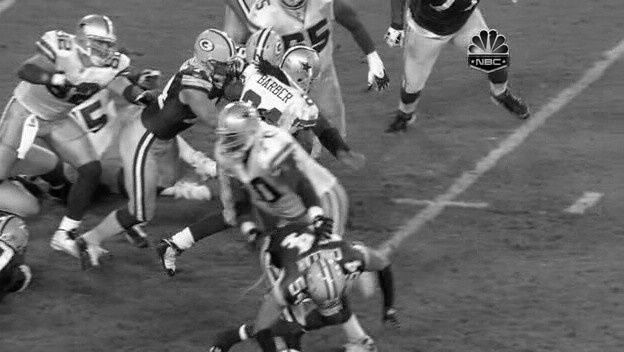person: (285, 46, 320, 91), (284, 46, 319, 91), (286, 46, 321, 91), (285, 45, 320, 90), (285, 47, 320, 92)
target_negative: (245, 79, 432, 218), (374, 146, 515, 238), (16, 315, 239, 332), (407, 177, 410, 285), (216, 351, 517, 352), (91, 259, 130, 265)
